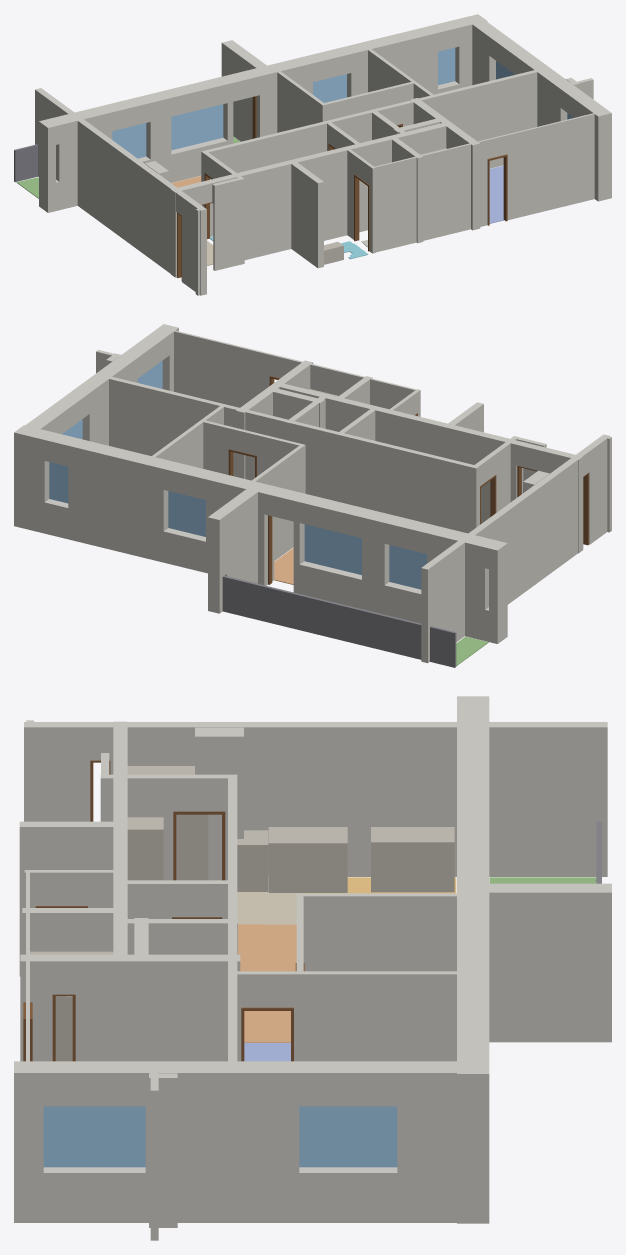
3 views of the same model, one above another, from view 1: azimuth 30°, elevation 25°; view 2: azimuth 150°, elevation 25°; view 3: azimuth 270°, elevation 25° (orthographic). The views are drawn at different scales.
Parts seen in each view (by area): view 1: walls, window_5, window_0, floor_10_Bed_Room, railings, window_1, window_2, door_13, door_14, furniture_9_toilet; view 2: walls, railings, window_5, window_1, window_0, window_2, floor_2_Living_Room, floor_12_Outdoor; view 3: walls, window_6, window_4, furniture_4_appliance, furniture_5_appliance, floor_2_Living_Room, furniture_1_closet, furniture_2_closet, floor_3_Entry, furniture_10_sink, furniture_3_closet, floor_4_Bed_Room (+2 smaller).
Part boxes in pixels (x1,y1,x2,y2): walls: (35, 14, 611, 295); window_5: (171, 104, 223, 150); window_0: (112, 123, 146, 158); floor_10_Bed_Room: (489, 165, 503, 223); railings: (14, 144, 37, 182); window_1: (313, 74, 346, 102); window_2: (438, 47, 455, 85); door_13: (487, 154, 507, 225); door_14: (354, 174, 369, 251); furniture_9_toilet: (324, 241, 343, 264); walls: (14, 324, 611, 663); railings: (222, 574, 456, 667); window_5: (304, 524, 361, 574); window_1: (168, 491, 205, 536); window_0: (389, 545, 426, 589); window_2: (49, 462, 68, 503); floor_2_Living_Room: (274, 548, 293, 584); floor_12_Outdoor: (456, 636, 488, 665); walls: (14, 696, 611, 1240); window_6: (43, 1106, 145, 1167); window_4: (299, 1106, 397, 1167); furniture_4_appliance: (371, 827, 454, 892); furniture_5_appliance: (268, 827, 347, 892); floor_2_Living_Room: (238, 924, 296, 1042); furniture_1_closet: (127, 766, 208, 880); furniture_2_closet: (127, 817, 163, 880); floor_3_Entry: (237, 877, 296, 924); furniture_10_sink: (237, 830, 268, 891); furniture_3_closet: (30, 951, 113, 1061); floor_4_Bed_Room: (244, 1043, 290, 1061).
Bounding box in the file's own units: 15.24 × 2.72 × 9.77.
